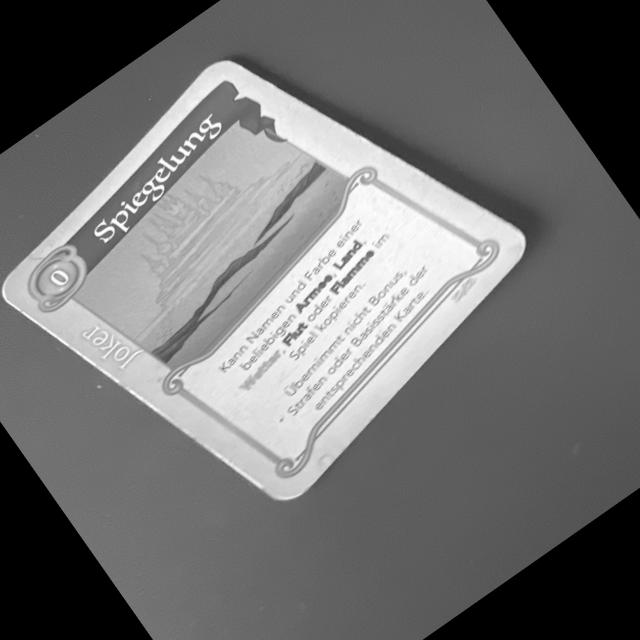Mirage: (0, 54, 532, 503)
